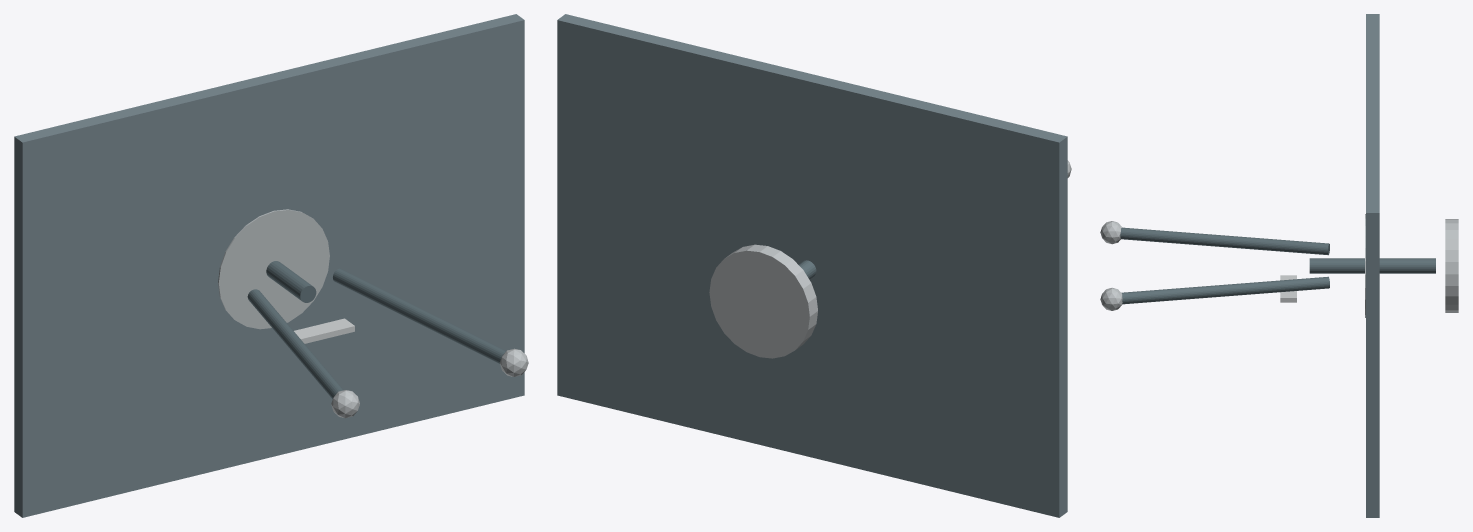
Rendered from stethoscope-high.glb.
3 renders of one model, left to right at view 1: azimuth 30°, elevation 25°; view 2: azimuth 150°, elevation 25°; view 3: azimuth 270°, elevation 25°, orthographic. The views are drawn at different scales.
Visible parts, largest first — view 1: presentation_base_detail, diaphragm_ring_detail, right_tube, left_tube, main_tube, brand_plate_detail, right_earpiece, left_earpiece; view 2: presentation_base_detail, chestpiece; view 3: presentation_base_detail, left_tube, right_tube, main_tube, chestpiece, right_earpiece.
Part boxes in pixels (x1,y1,x2,y2): presentation_base_detail: [14, 14, 524, 517]; diaphragm_ring_detail: [218, 209, 329, 329]; right_tube: [333, 268, 505, 363]; left_tube: [247, 289, 343, 399]; main_tube: [266, 261, 316, 302]; brand_plate_detail: [294, 318, 354, 343]; right_earpiece: [500, 348, 528, 376]; left_earpiece: [331, 390, 359, 418]; presentation_base_detail: [557, 14, 1067, 517]; chestpiece: [709, 244, 817, 358]; presentation_base_detail: [1366, 14, 1379, 517]; left_tube: [1120, 227, 1329, 255]; right_tube: [1121, 276, 1329, 304]; main_tube: [1309, 258, 1435, 273]; chestpiece: [1445, 219, 1458, 312]; right_earpiece: [1100, 287, 1122, 310].
Bounding box in the file's own units: 2.8 × 2 × 2.13.
